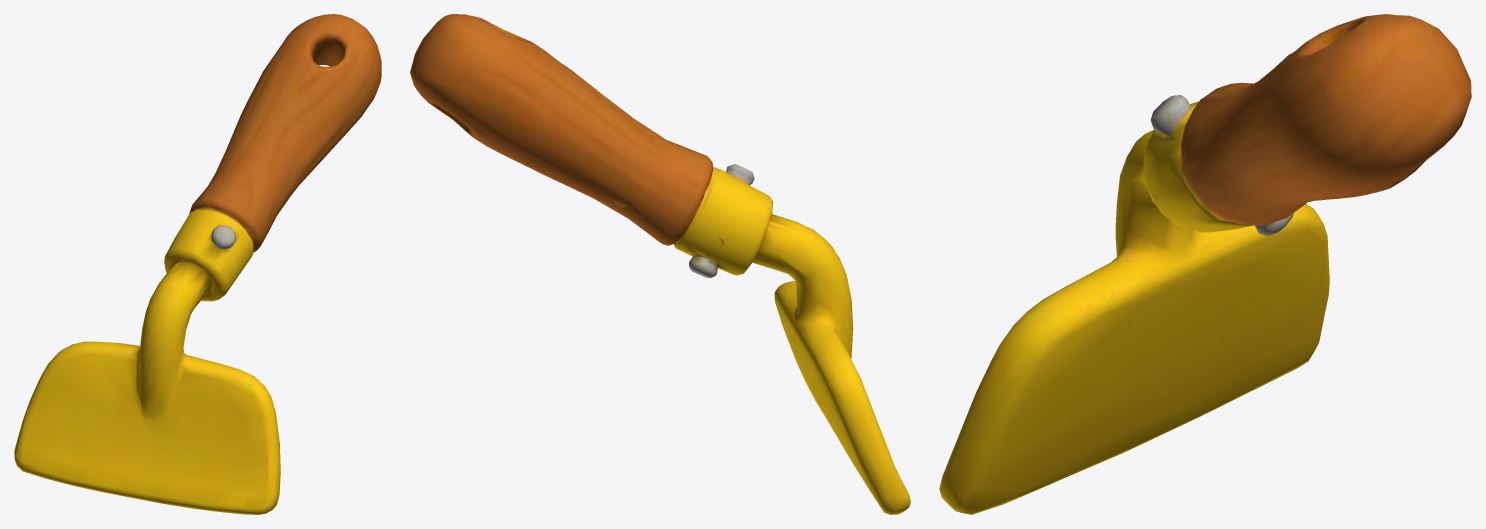
3 renders of one model, left to right at view 1: azimuth 30°, elevation 25°; view 2: azimuth 150°, elevation 25°; view 3: azimuth 270°, elevation 25°, orthographic. The views are drawn at different scales.
Parts seen in each view (by area): view 1: hoe; view 2: hoe; view 3: hoe.
Part boxes in pixels (<box>): hoe: <box>14,14,381,514</box>; hoe: <box>410,14,910,514</box>; hoe: <box>939,14,1471,514</box>.
Size of the model in its own units: 0.3499 by 0.3179 by 0.2337.
1 material, 1 textured.
